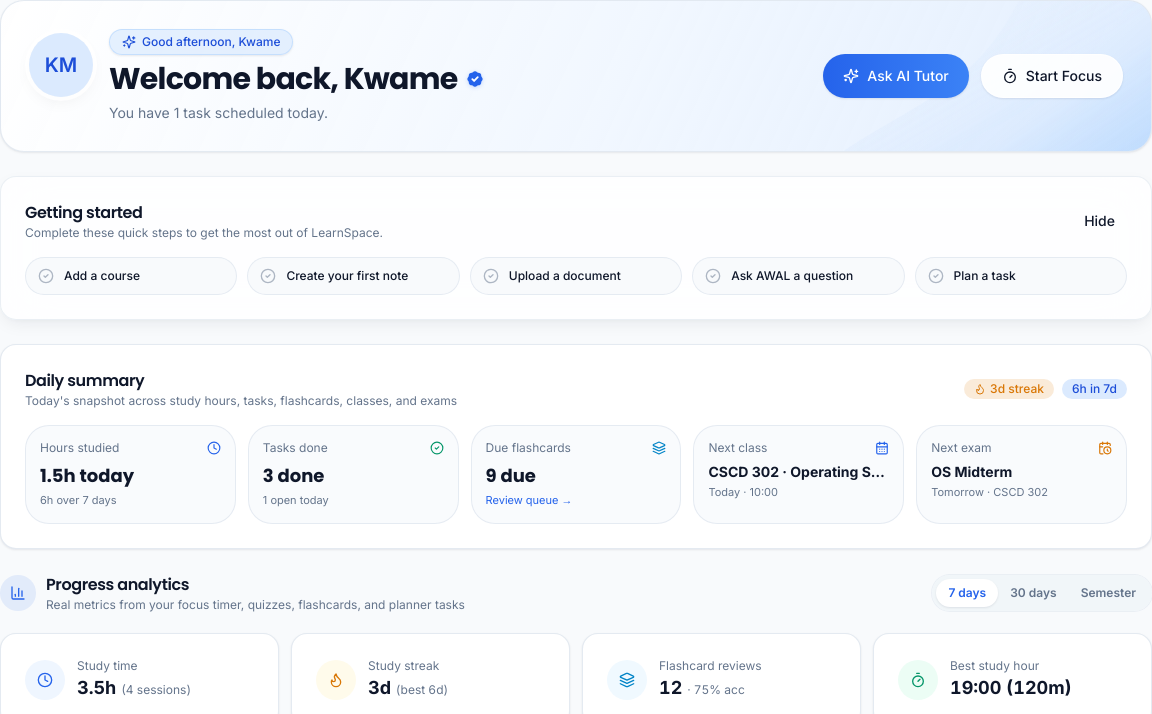
Dashboard Redesign & Progress Analytics UI › renders Daily Summary, switches analytics date ranges, toggles Best Hours, and launches "Revise this" from weak topics
Expected: the text "1.5h today" is shown, [40,463,134,488]
Expected: the text "3 done" is shown, [263,463,324,488]
Click the button "30 days": coordinates (1033, 592) [998,578,1069,606]
(page scrolled)
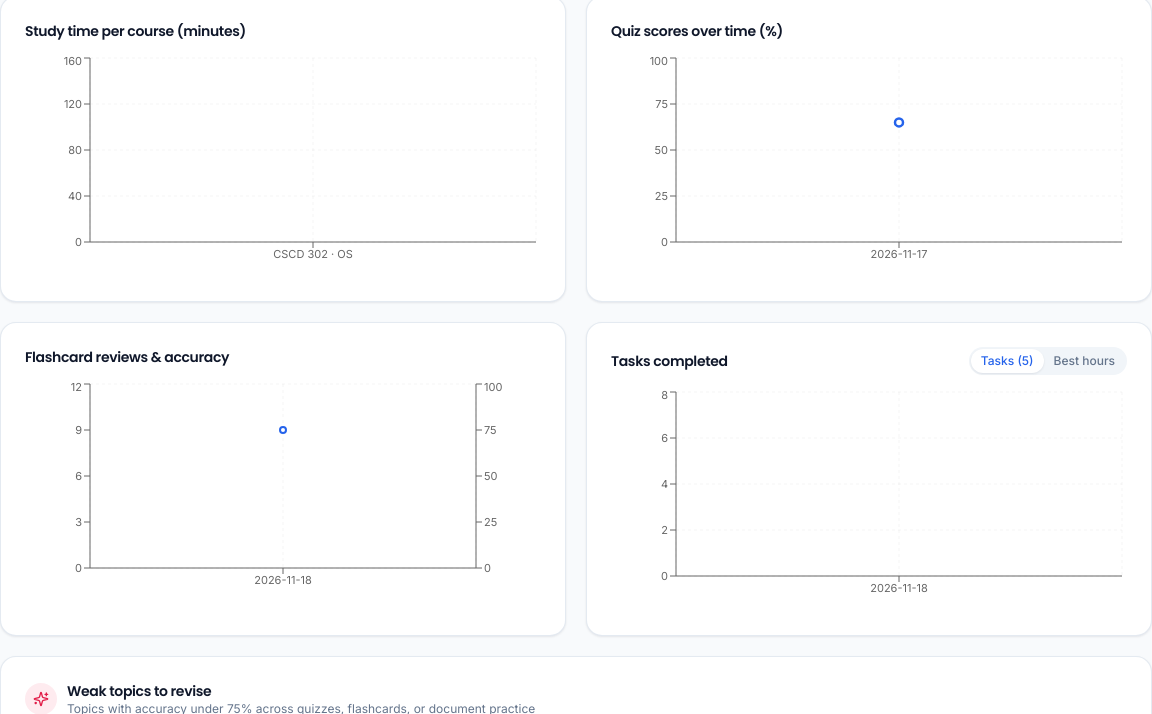
Note: Switch to Best hours tab inside Tasks/Hours chart card
Click the button "Best hours": coordinates (1084, 360) [1044,348,1125,372]
(page scrolled)
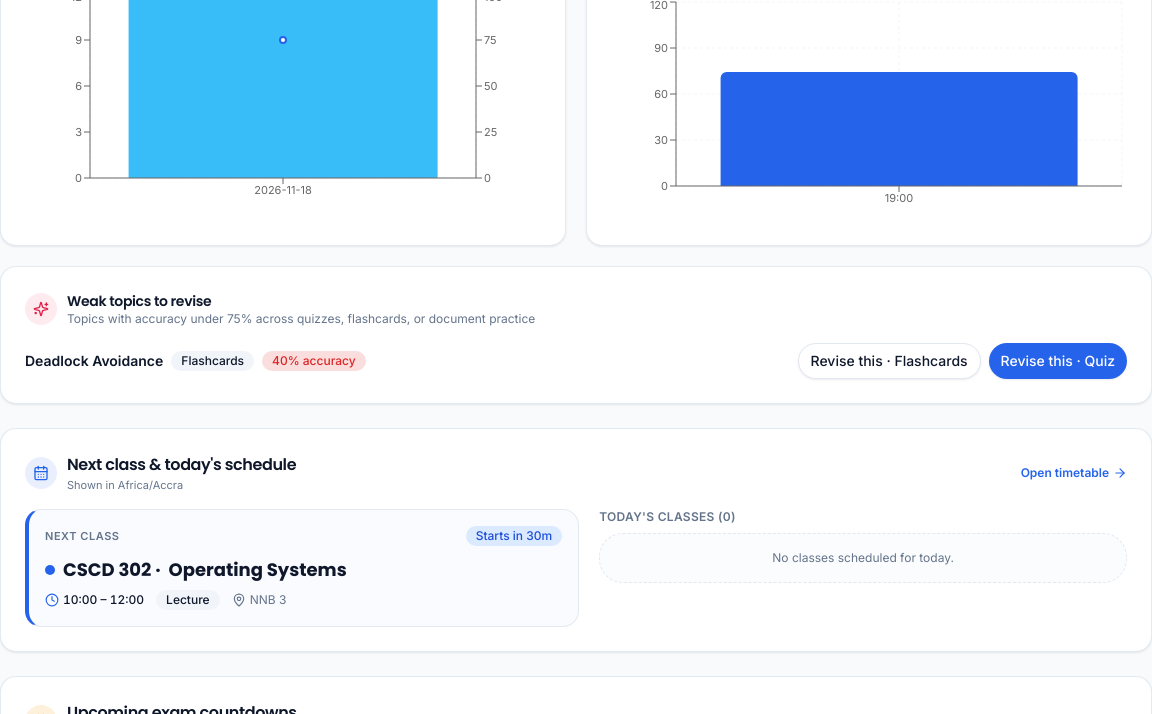
Expected: the text "Deadlock Avoidance" is shown, [25,350,163,370]
Click the button "Revise this · Flashcards": coordinates (889, 360) [798,342,981,378]
(page scrolled)
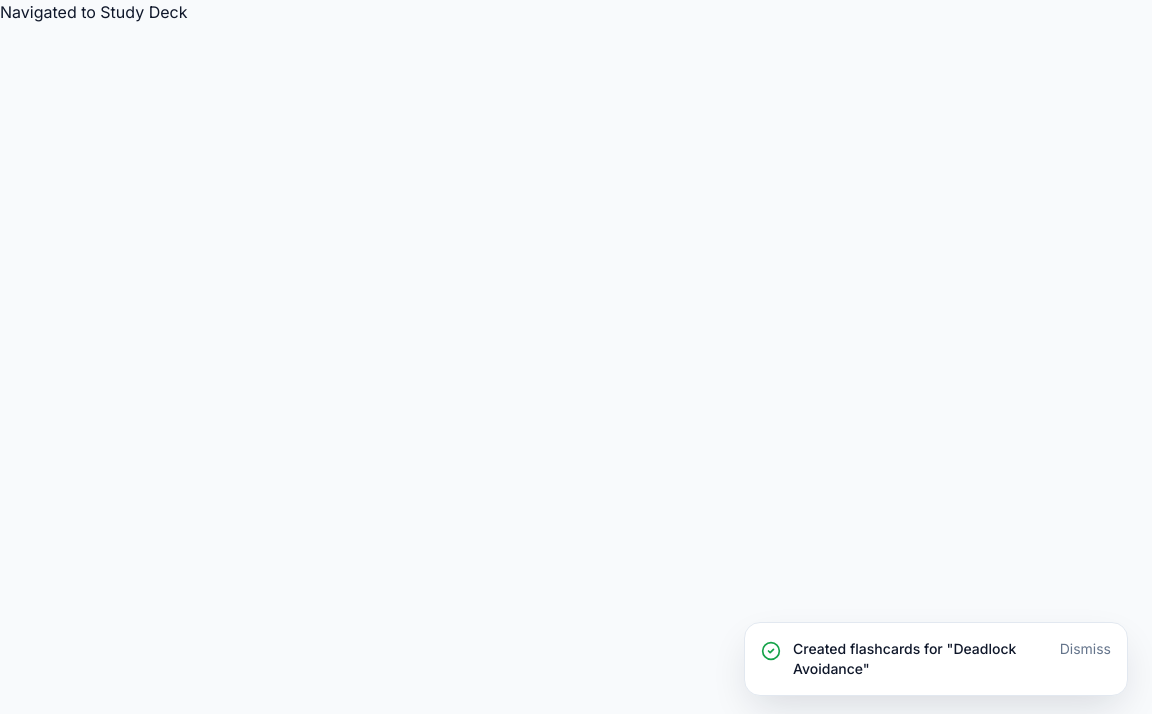
Expected: the text "Navigated to Study Deck" is shown, [0,2,188,22]
